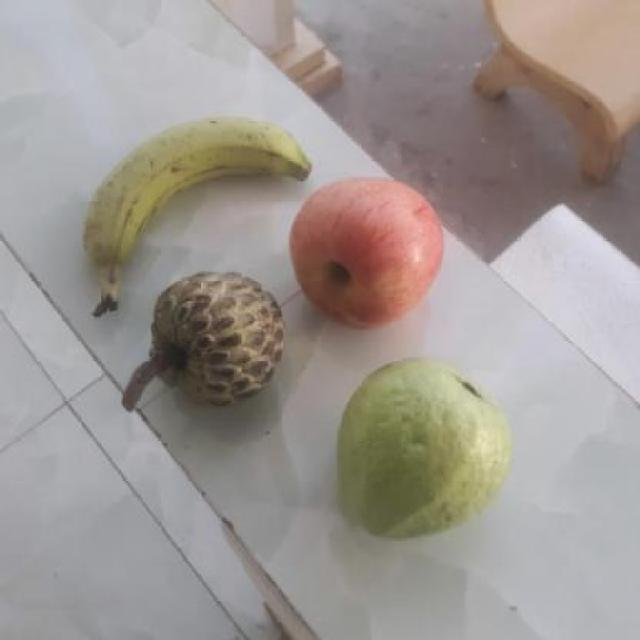apple: (286, 177, 449, 328)
banana: (86, 118, 317, 298)
guava: (337, 362, 521, 543)
sugar apple: (137, 267, 292, 408)
